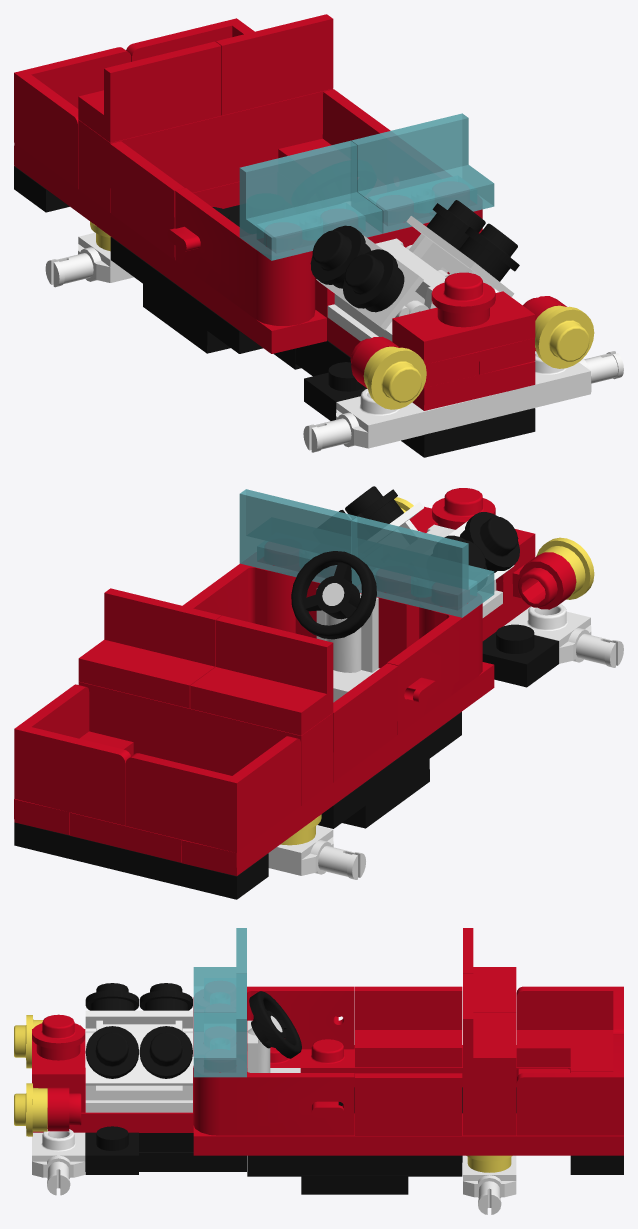
The model's file is car.fbx.
3 views of the same model, one above another, from view 1: azimuth 30°, elevation 25°; view 2: azimuth 150°, elevation 25°; view 3: azimuth 270°, elevation 25° (orthographic). The views are drawn at different scales.
Parts seen in each view (by area): view 1: car; view 2: car; view 3: car.
Part boxes in pixels (left/top/right/bottom): car: left=14, top=14, right=623, bottom=457; car: left=14, top=486, right=623, bottom=899; car: left=14, top=928, right=623, bottom=1214.
Size of the model in its own units: 65.88 by 44.67 by 136.
